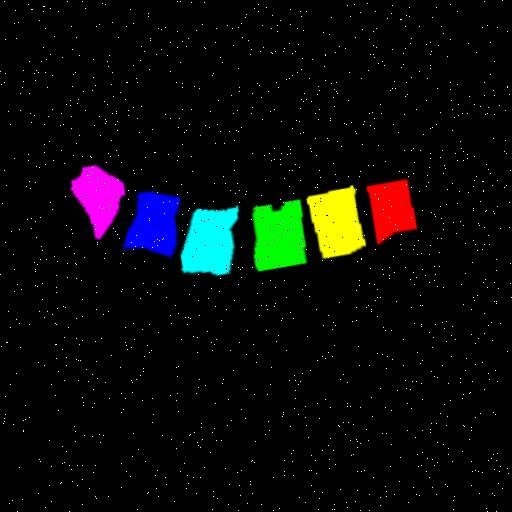L1: (368, 176, 417, 240)
L2: (309, 185, 366, 256)
L3: (254, 197, 306, 269)
L4: (183, 203, 238, 272)
L5: (126, 190, 179, 254)
S1: (72, 164, 125, 238)
